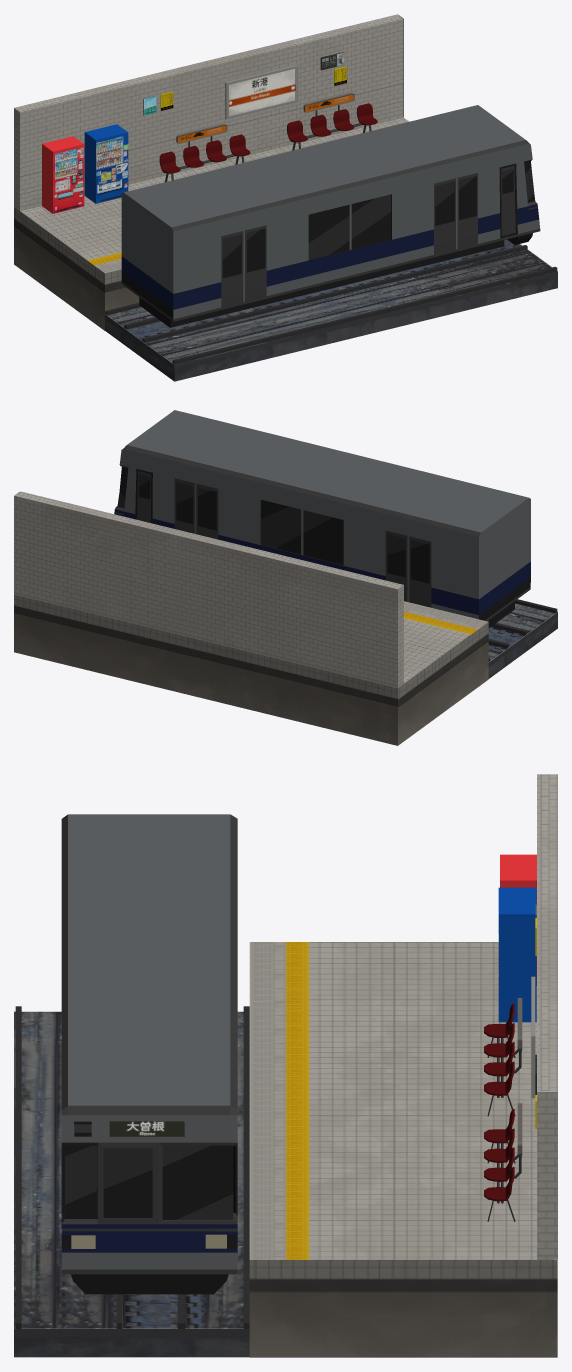
The model's file is train12.fbx.
3 renders of one model, top to bottom at view 1: azimuth 30°, elevation 25°; view 2: azimuth 150°, elevation 25°; view 3: azimuth 270°, elevation 25°, orthographic. The views are drawn at different scales.
Parts seen in each view (by area): view 1: Cube.016, Cube.017, Cube.014, Cube.006, vending02, vending01, Cube.025, Cube.044, Cube.015, Cube.022, Cylinder; view 2: Cube.016, Cube.017, Cube.006, Cube.014; view 3: Cube.006, Cube.016, Cube.014, Cube.017, vending02, Cylinder, Cube.022, Cube.044, Cube.045, vending01.
Part boxes in pixels (left/top/right/bottom): Cube.016: left=121, top=105, right=540, bottom=327; Cube.017: left=14, top=14, right=403, bottom=211; Cube.014: left=105, top=239, right=557, bottom=381; Cube.006: left=14, top=117, right=408, bottom=330; vending02: left=84, top=124, right=128, bottom=203; vending01: left=42, top=136, right=84, bottom=213; Cube.025: left=225, top=64, right=298, bottom=119; Cube.044: left=172, top=266, right=557, bottom=364; Cube.015: left=142, top=245, right=527, bottom=342; Cube.022: left=159, top=124, right=250, bottom=182; Cylinder: left=287, top=93, right=377, bottom=150; Cube.016: left=114, top=410, right=530, bottom=628; Cube.017: left=14, top=491, right=403, bottom=688; Cube.006: left=14, top=594, right=488, bottom=745; Cube.014: left=488, top=603, right=557, bottom=678; Cube.006: left=249, top=942, right=557, bottom=1357; Cube.016: left=61, top=814, right=237, bottom=1294; Cube.014: left=14, top=1011, right=249, bottom=1357; Cube.017: left=537, top=774, right=557, bottom=1259; vending02: left=498, top=887, right=536, bottom=1022; Cylinder: left=484, top=1103, right=522, bottom=1221; Cube.022: left=484, top=998, right=522, bottom=1116; Cube.044: left=15, top=1006, right=21, bottom=1328; Cube.045: left=243, top=1006, right=249, bottom=1328; vending01: left=500, top=854, right=536, bottom=985.
Size of the model in its own units: 37854 by 14756 by 27391.
